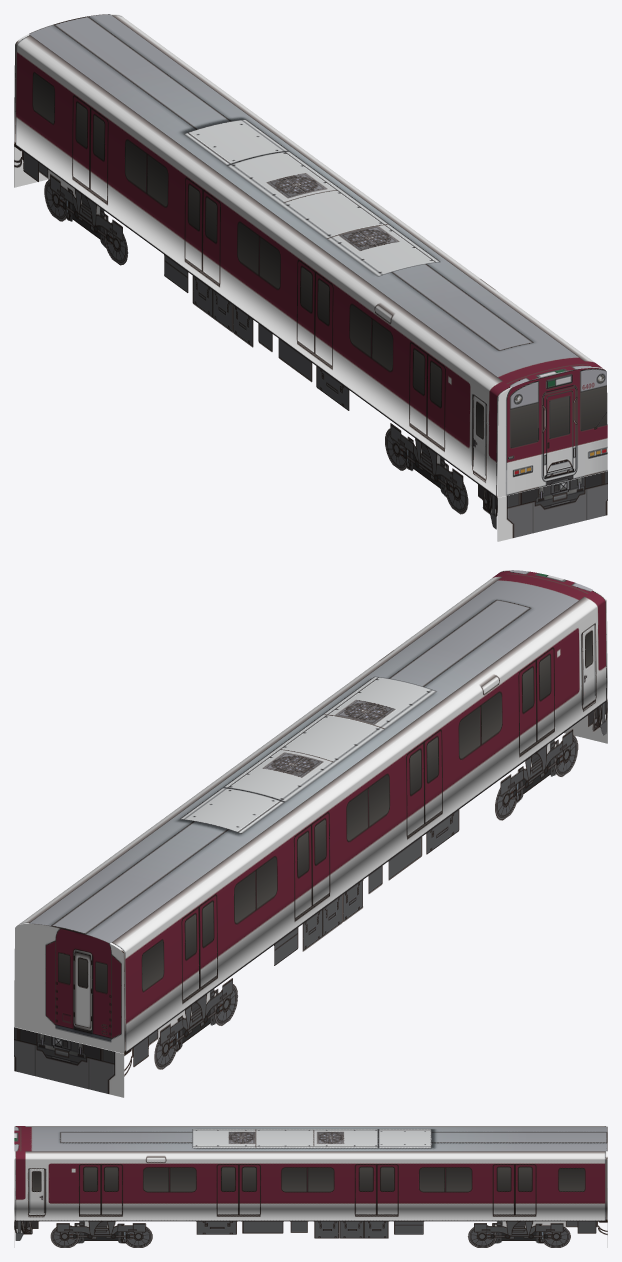
File: car1.glb
3 views of the same model, one above another, from view 1: azimuth 30°, elevation 25°; view 2: azimuth 150°, elevation 25°; view 3: azimuth 270°, elevation 25° (orthographic). The views are drawn at different scales.
Visible parts, largest first — view 1: kintetsu-6400-car1; view 2: kintetsu-6400-car1; view 3: kintetsu-6400-car1.
Part boxes in pixels (x1=…): kintetsu-6400-car1: x1=14, y1=14, x2=607, y2=541; kintetsu-6400-car1: x1=14, y1=570, x2=607, y2=1097; kintetsu-6400-car1: x1=14, y1=1126, x2=607, y2=1247.
Size of the model in its own units: 2.8 by 3.75 by 21.34.
Materials: 8 (7 with a texture image).
